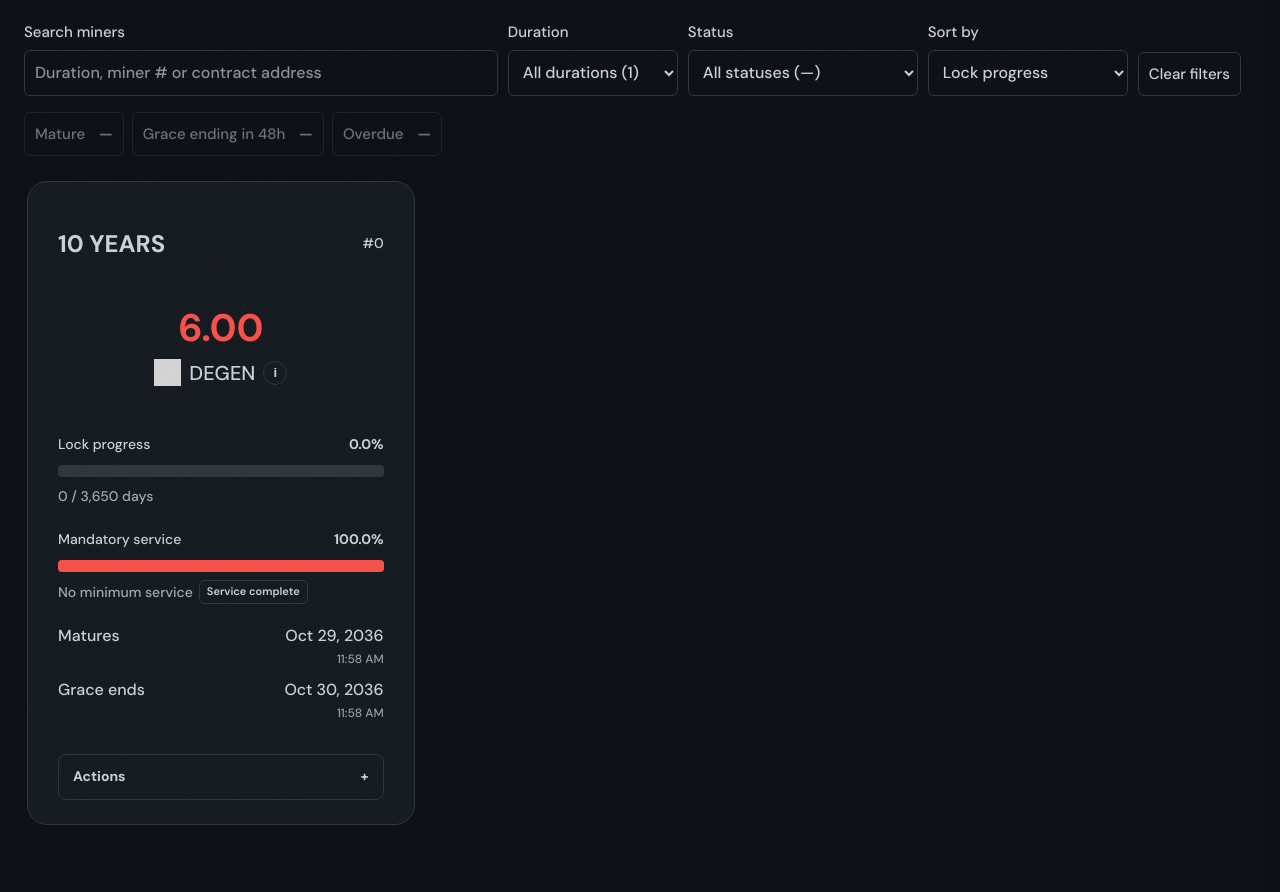
Test case: miner positions › opens actions with an expanded state and lets Escape close them and return focus
(page scrolled)
Step 1. Click the button "Actions +" → (99, 776), box [58,754,384,800]
(page scrolled)
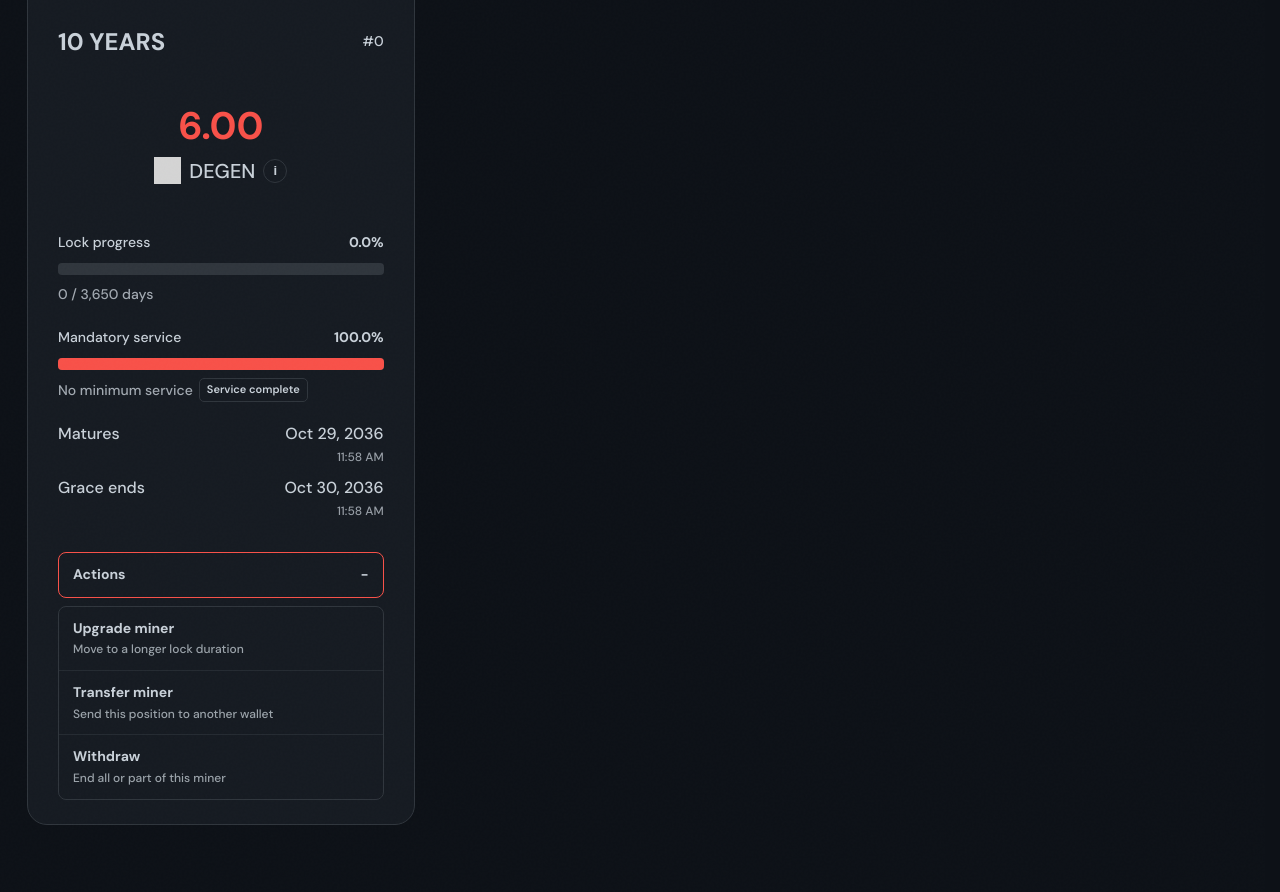
Expected: the button "Actions −" is expanded, [58,552,384,598]
Step 2. Press Escape in the button with aria-label "End Miner (Withdraw)", box [59,734,383,799]
(page scrolled)
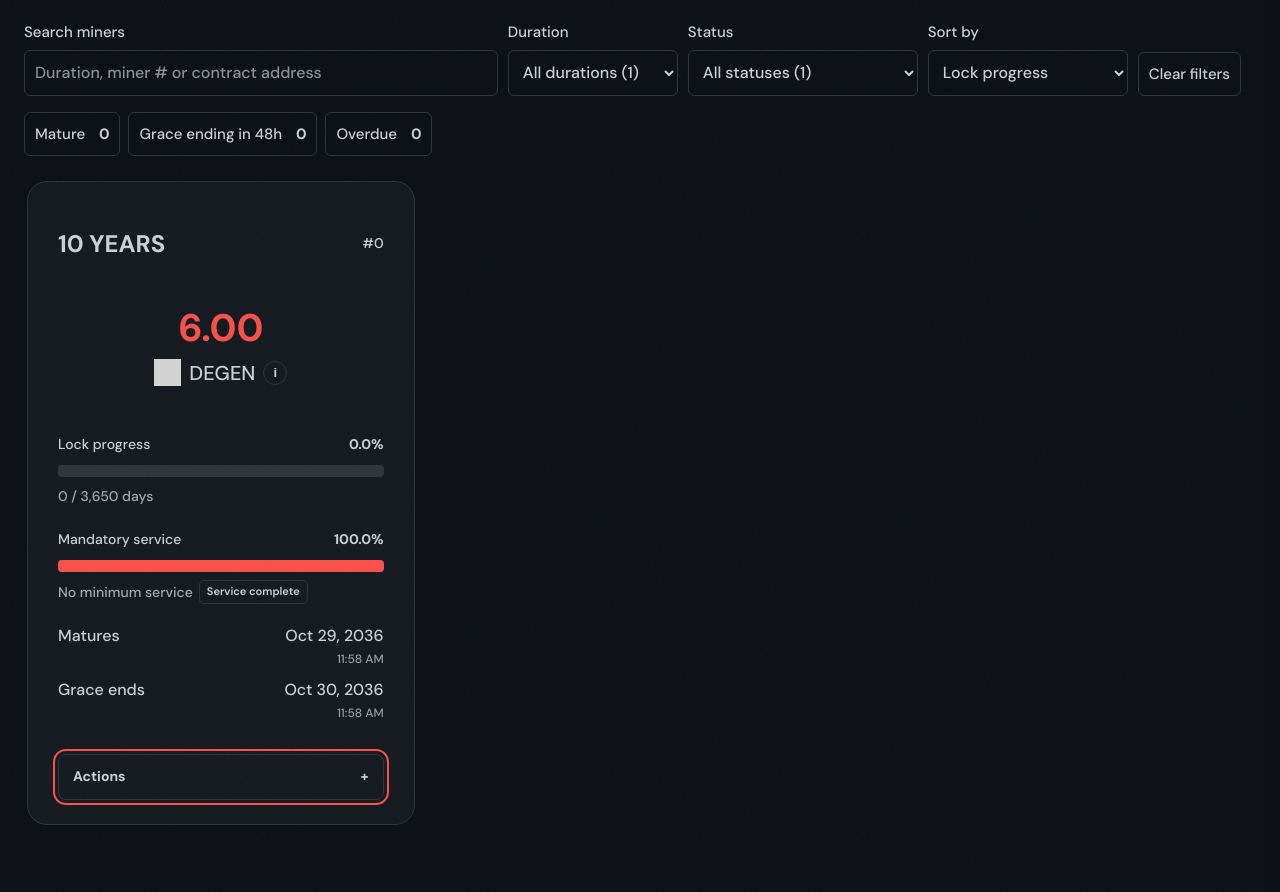
Expected: the button "Actions +" is collapsed, [58,754,384,800]
